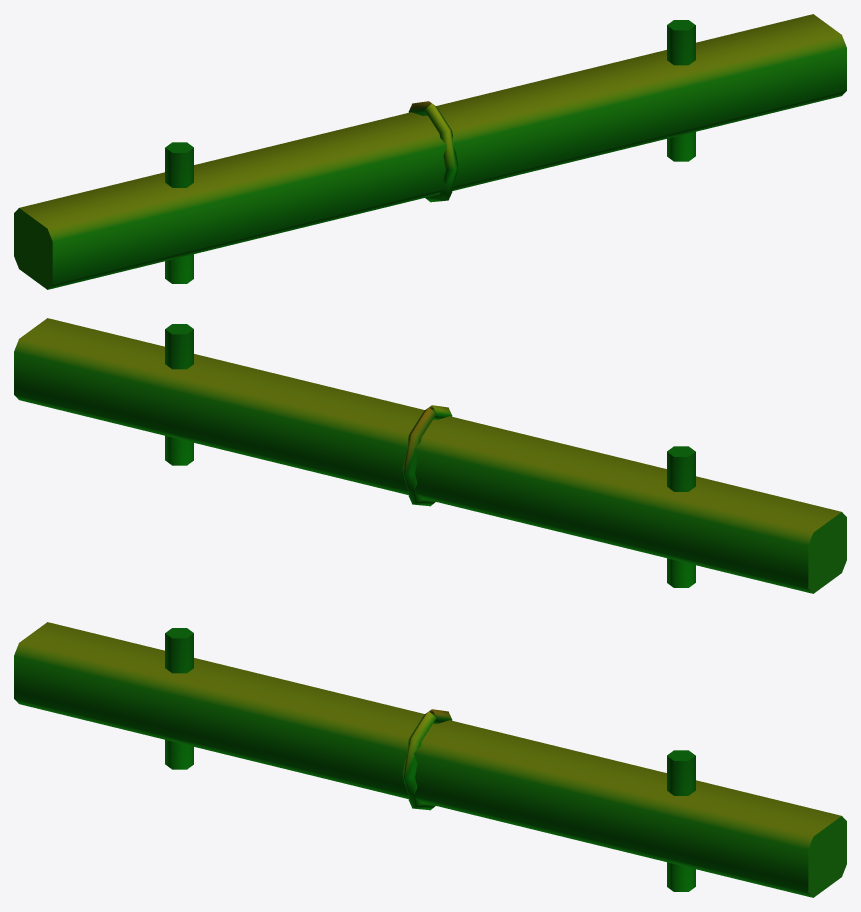
File: hoist_pins.glb
The picture shows the model from 3 angles, top to bottom: view 1: azimuth 30°, elevation 25°; view 2: azimuth 150°, elevation 25°; view 3: azimuth 330°, elevation 25°; orthographic projection.
Parts seen in each view (by area): view 1: hoist_pins; view 2: hoist_pins; view 3: hoist_pins.
Part boxes in pixels (left/top/right/bottom): hoist_pins: left=14, top=14, right=846, bottom=289; hoist_pins: left=14, top=318, right=846, bottom=593; hoist_pins: left=14, top=622, right=846, bottom=897.
Size of what is drawn, in the model's own units: 1.9 by 0.3 by 0.21.
